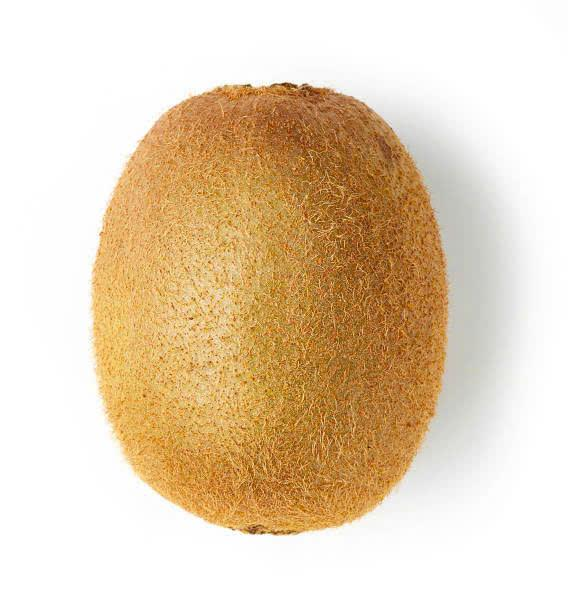kiwi: (93, 49, 448, 531)
